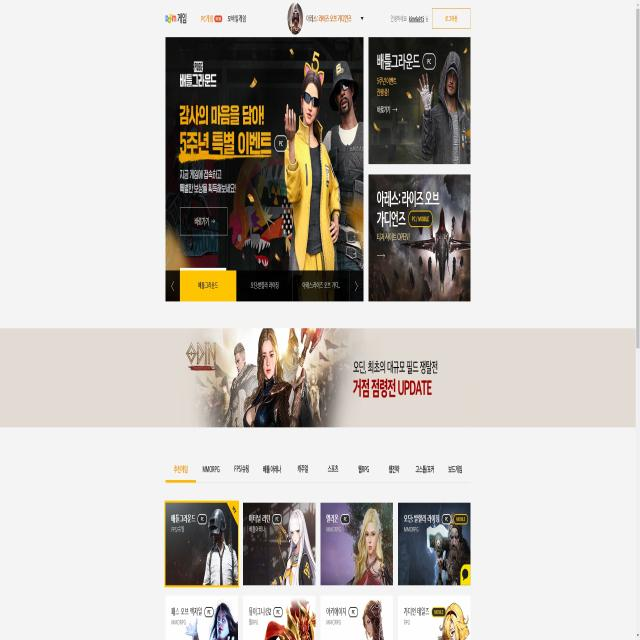tab-bar: (164, 458, 470, 489), (161, 8, 248, 29)
